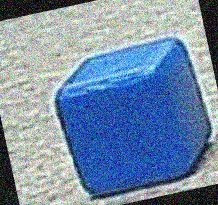blue_cube: (39, 36, 214, 201)
